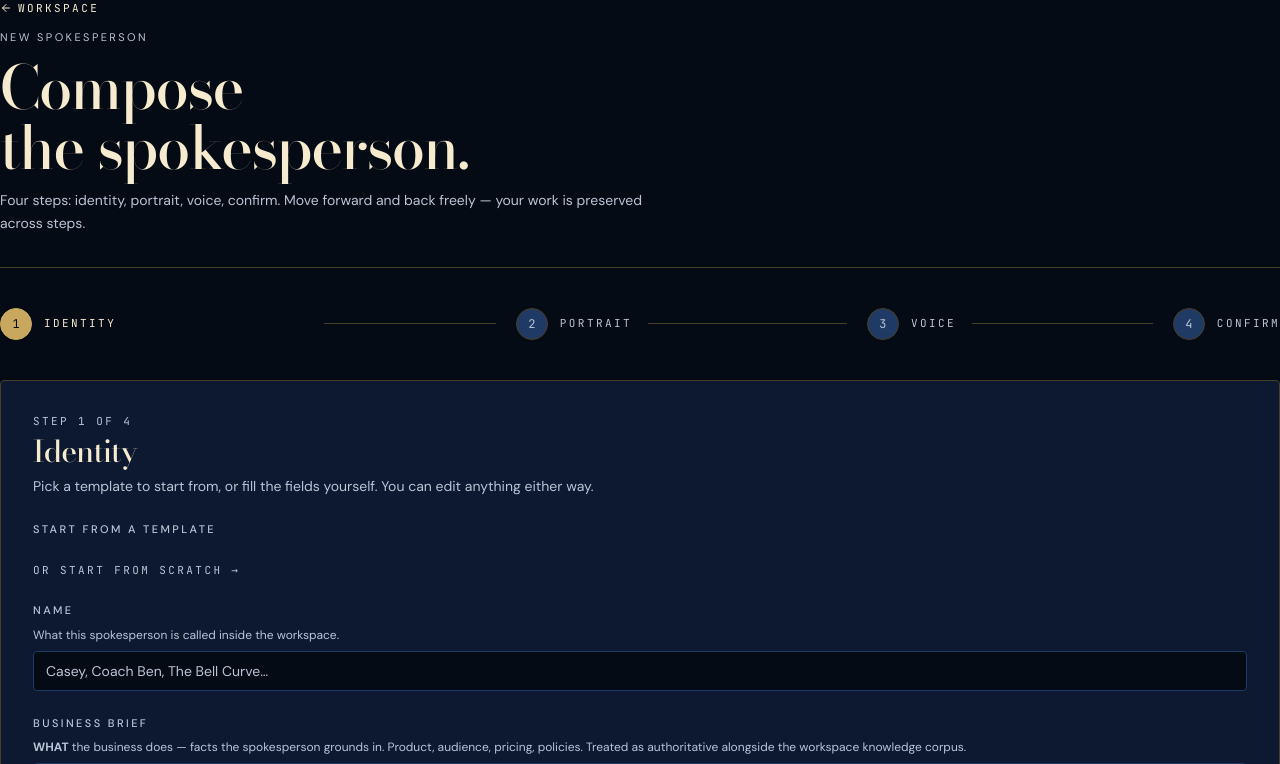
Test: Step 1 World picker (SESSION 277 Slice 5) › enables Next once an existing World is selected
Type "Ruby" into the field with test id "wizard-name-input" at (640, 671), box x1=33 y1=651 x2=1247 y2=691
(page scrolled)
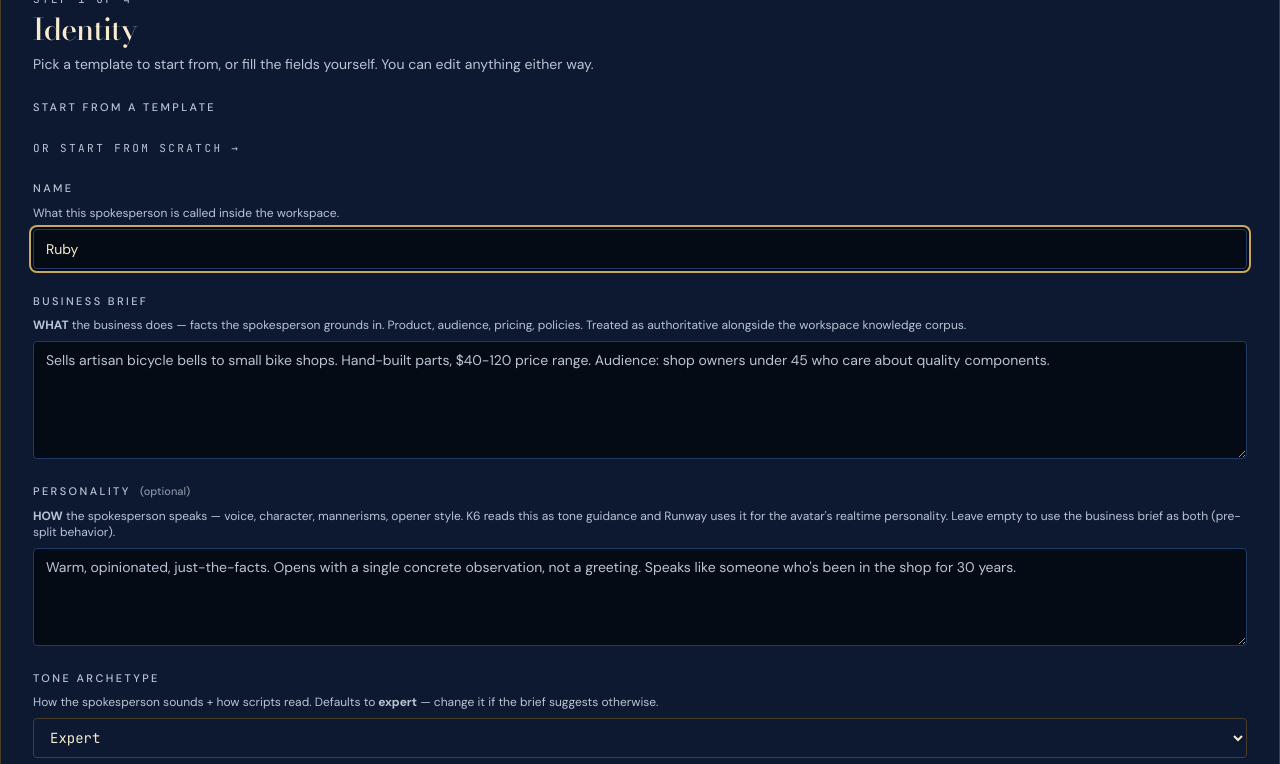
Type "Small-batch bakery in Boulder." into the text box with test id "wizard-brief-input" at (640, 400), box x1=33 y1=341 x2=1247 y2=459
(page scrolled)
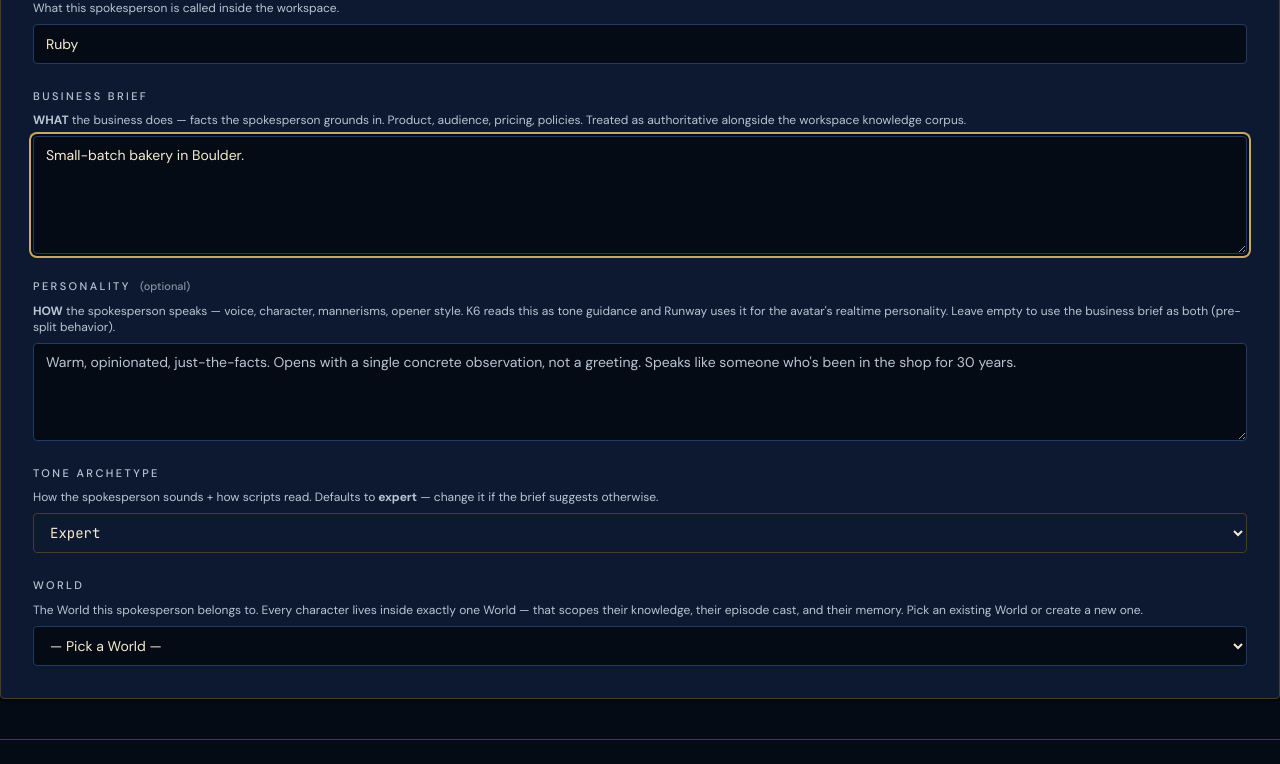
Pick the existing World.
Select "Fox & Flour Bakery" in the dropdown with test id "wizard-world-select" at (640, 646), box x1=33 y1=626 x2=1247 y2=666
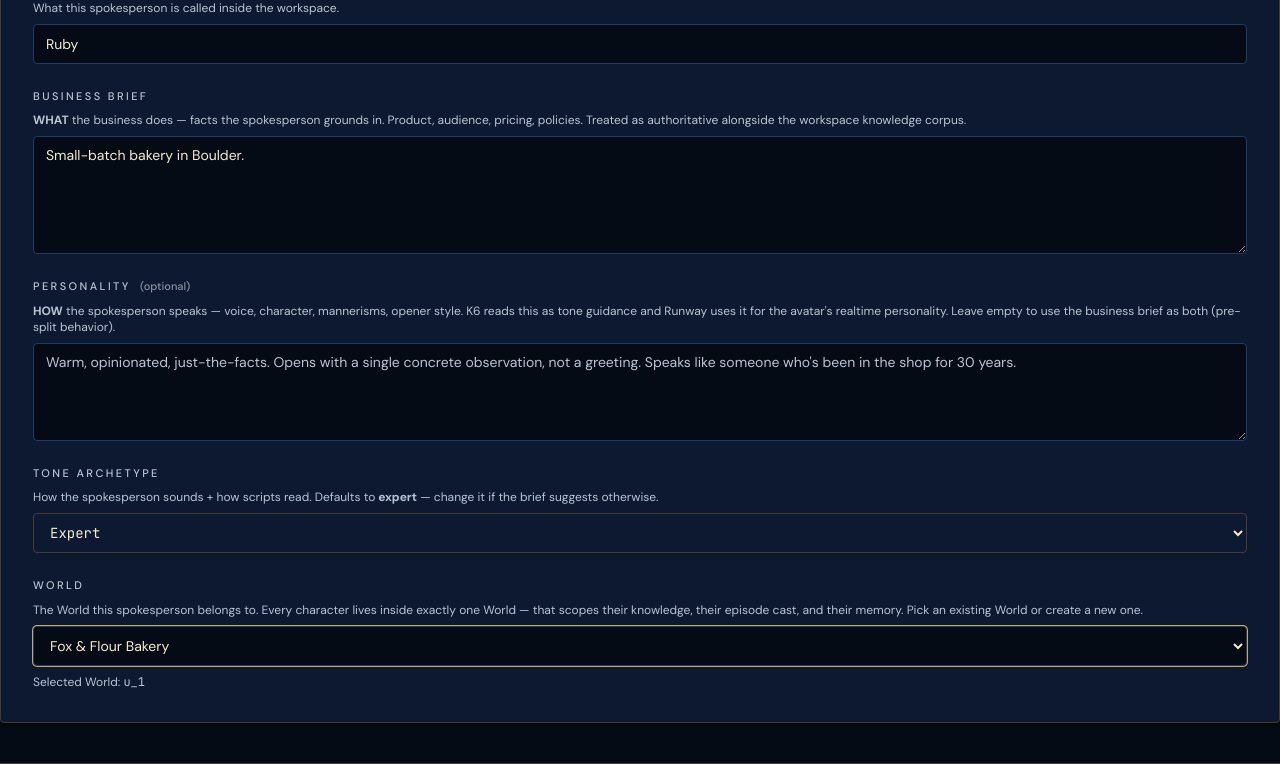
Result: the element with test id "wizard-world-selected" shows "u_1" at x1=123 y1=674 x2=145 y2=690
